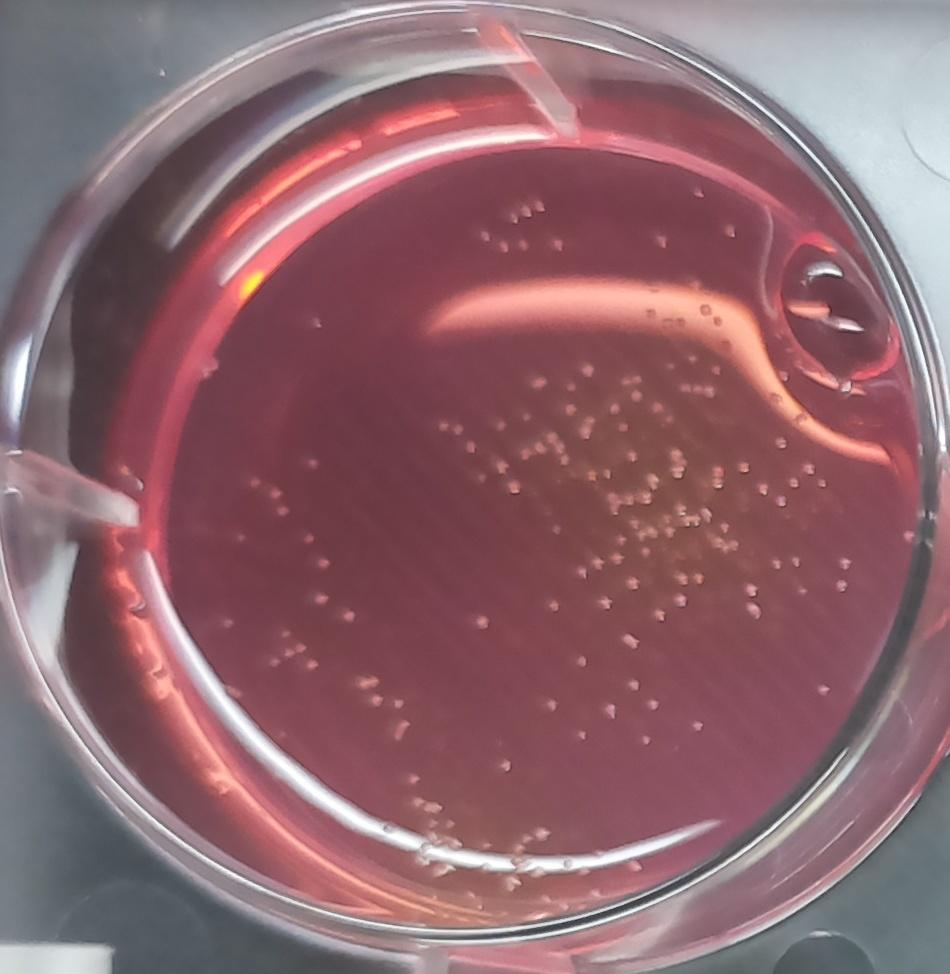staphylo-: (604, 487, 633, 517), (706, 533, 742, 555), (619, 629, 647, 655), (668, 446, 688, 482), (335, 603, 359, 628), (643, 468, 662, 494), (593, 592, 616, 613), (649, 603, 670, 626), (635, 525, 661, 543), (619, 371, 645, 389), (620, 573, 642, 594), (581, 413, 598, 440), (695, 384, 722, 401), (636, 488, 656, 508), (298, 529, 318, 549), (611, 529, 631, 549), (246, 472, 264, 494), (670, 568, 689, 588), (604, 400, 624, 419), (313, 589, 332, 609), (273, 502, 292, 522), (680, 513, 703, 529), (614, 419, 633, 438), (313, 555, 332, 574), (672, 591, 691, 610), (608, 550, 627, 568), (589, 554, 608, 572), (265, 482, 283, 501), (544, 596, 562, 614), (649, 397, 667, 415), (626, 513, 643, 532), (693, 567, 708, 587), (627, 389, 645, 405), (662, 523, 677, 540), (574, 566, 592, 580), (585, 468, 600, 483), (640, 544, 654, 560), (710, 464, 725, 478), (625, 449, 639, 464), (678, 381, 692, 396), (711, 477, 725, 491), (676, 501, 689, 515)
